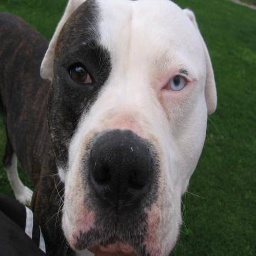dog: (0, 0, 217, 256)
